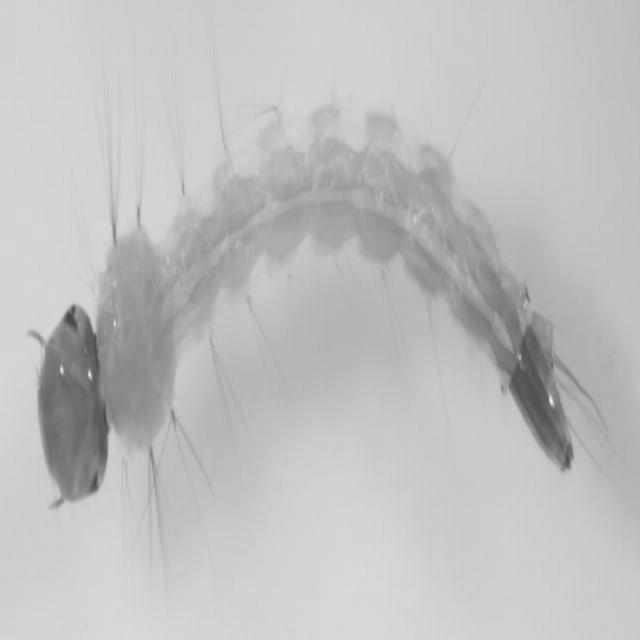larvas: (33, 123, 580, 492)
